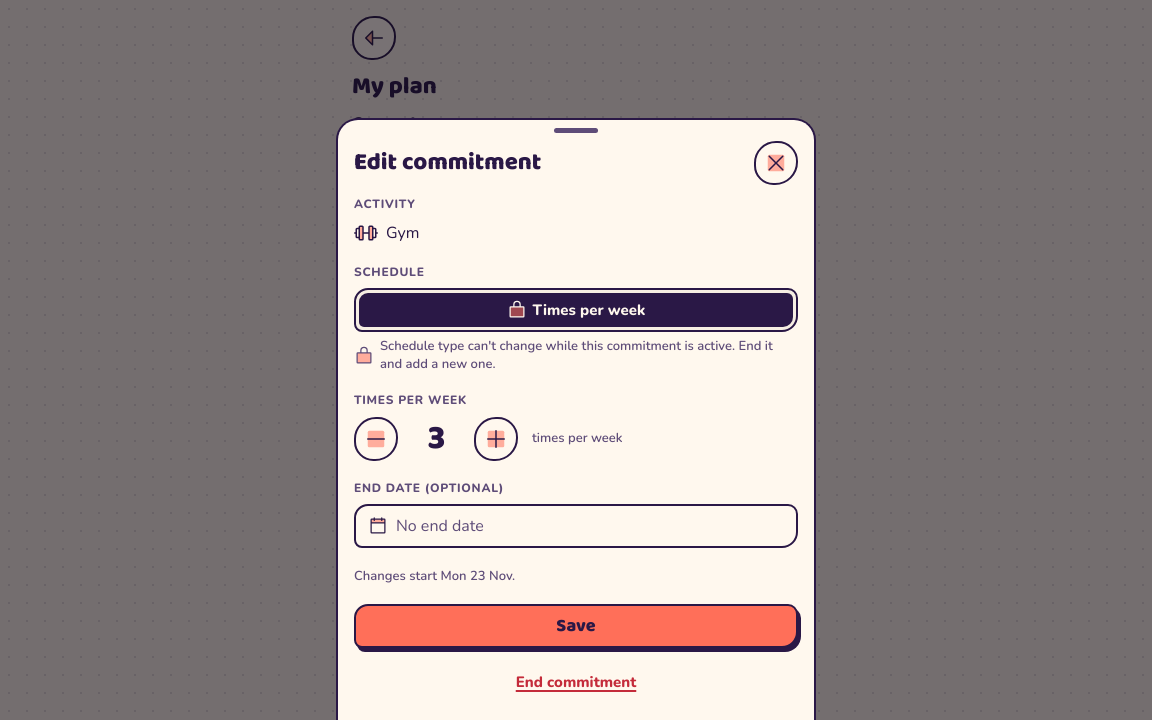
Scenario: My plan › the deep link opens the edit sheet over My plan; closing it returns to /me/plan
Expected: the text "Changes start Mon 23 Nov." is shown, [354,568,515,586]
Expected: the heading "My plan" is shown, [352,67,437,106]
Click the button named "Close": (776, 163) [754,141,798,185]
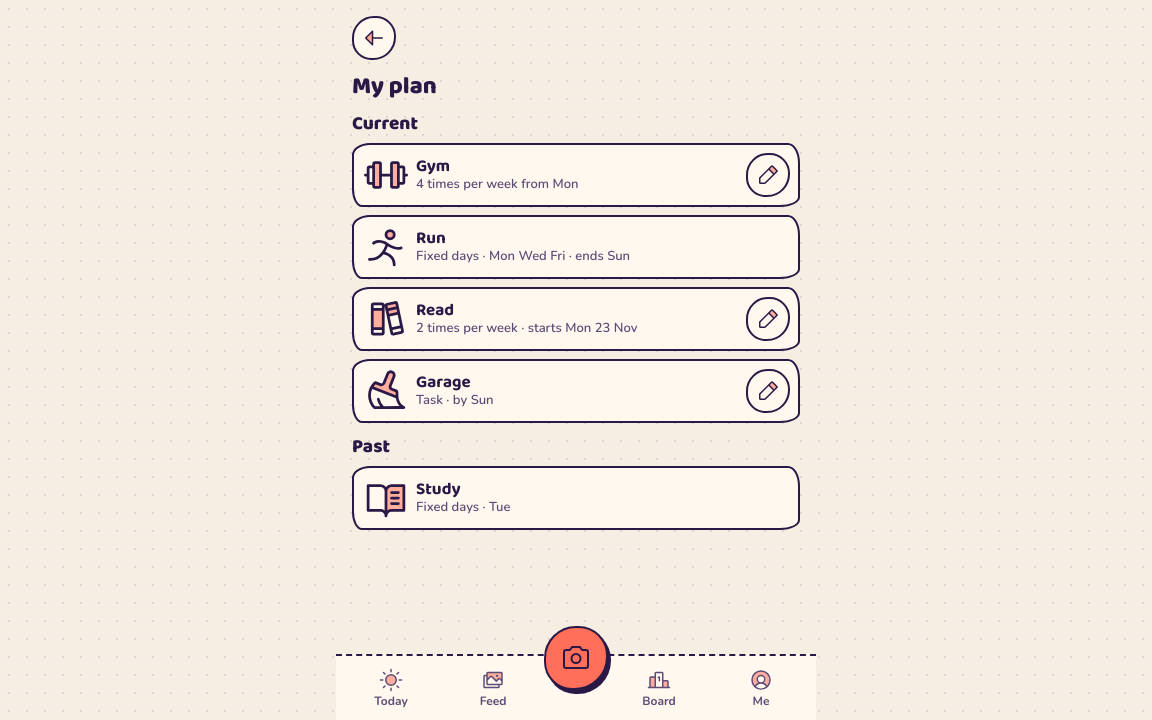
Expected: the element "Current" is shown, [352,114,800,423]
Expected: the dialog is gone
